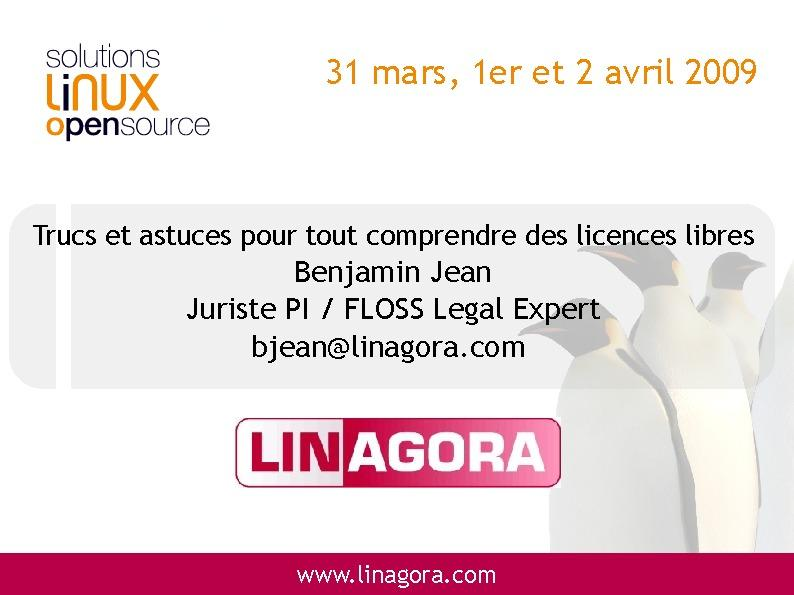title: (25, 196, 771, 261)
